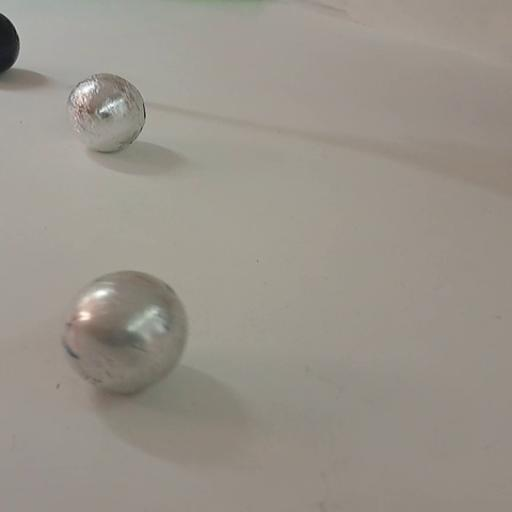alive: (57, 268, 191, 400), (66, 72, 146, 152)
dead: (0, 10, 22, 80)
